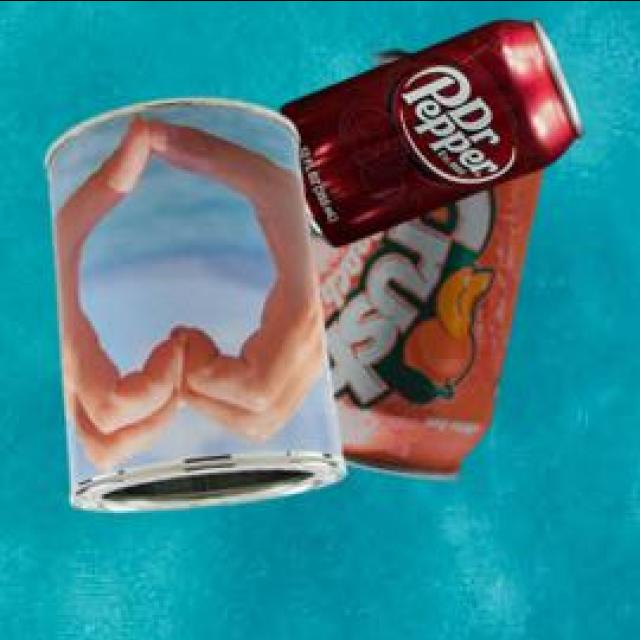logam: (49, 94, 350, 506), (314, 46, 546, 475), (281, 15, 587, 243)
